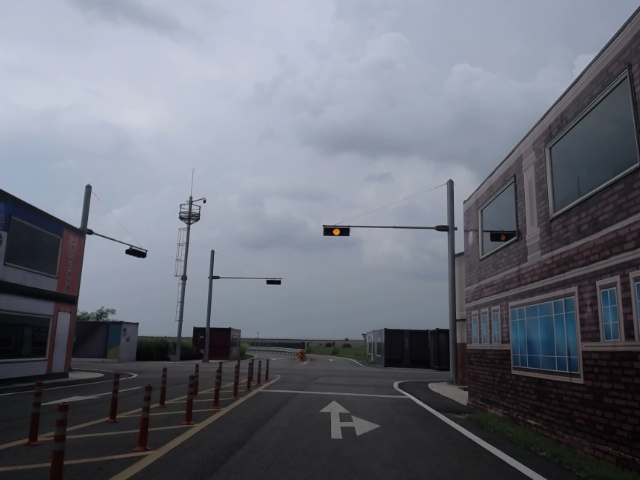orange_3: (323, 226, 351, 237)
